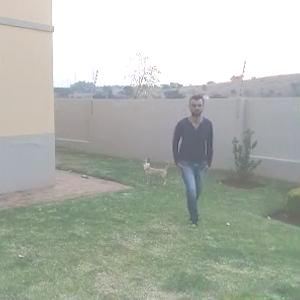follow: (168, 82, 217, 231)
